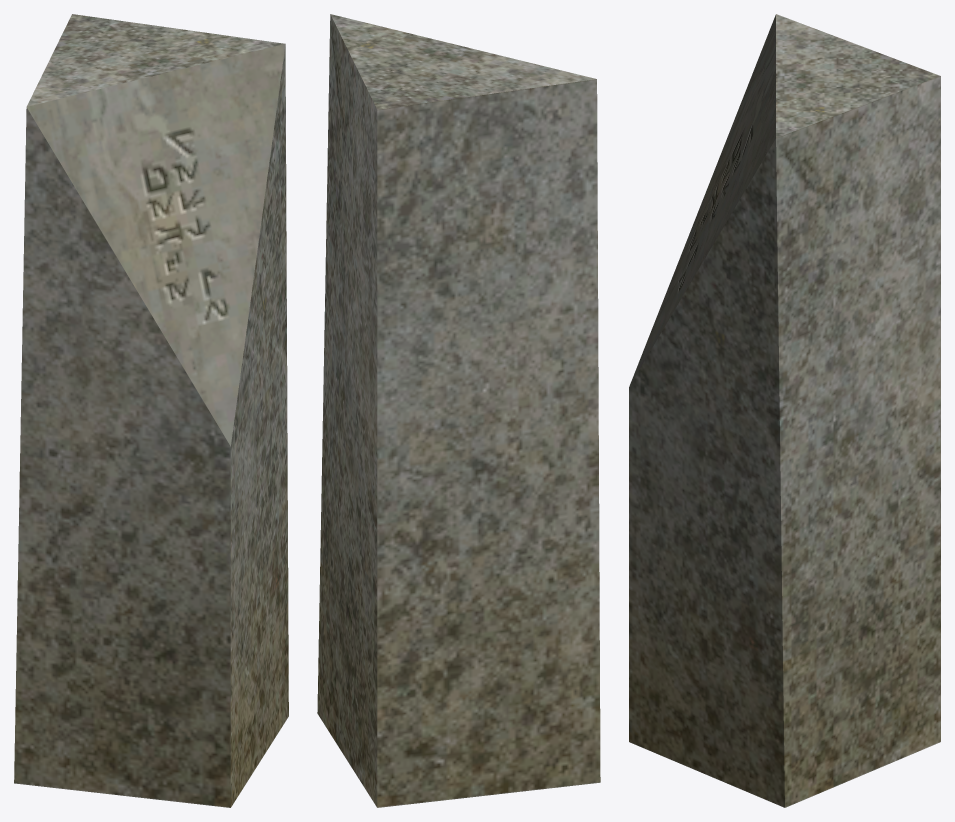
Rendered from thm_all_gravestone_s03_l1.fbx.
The picture shows the model from 3 angles, left to right: view 1: azimuth 30°, elevation 25°; view 2: azimuth 150°, elevation 25°; view 3: azimuth 270°, elevation 25°; orthographic projection. The views are drawn at different scales.
Visible parts, largest first — view 1: mesh_node; view 2: mesh_node; view 3: mesh_node.
Boxes of the visible parts, x1,y1,x2,y2 form: mesh_node: [14, 14, 288, 807]; mesh_node: [317, 14, 600, 807]; mesh_node: [629, 14, 940, 807].
Size of the model in its own units: 0.4243 by 1 by 0.4243.
